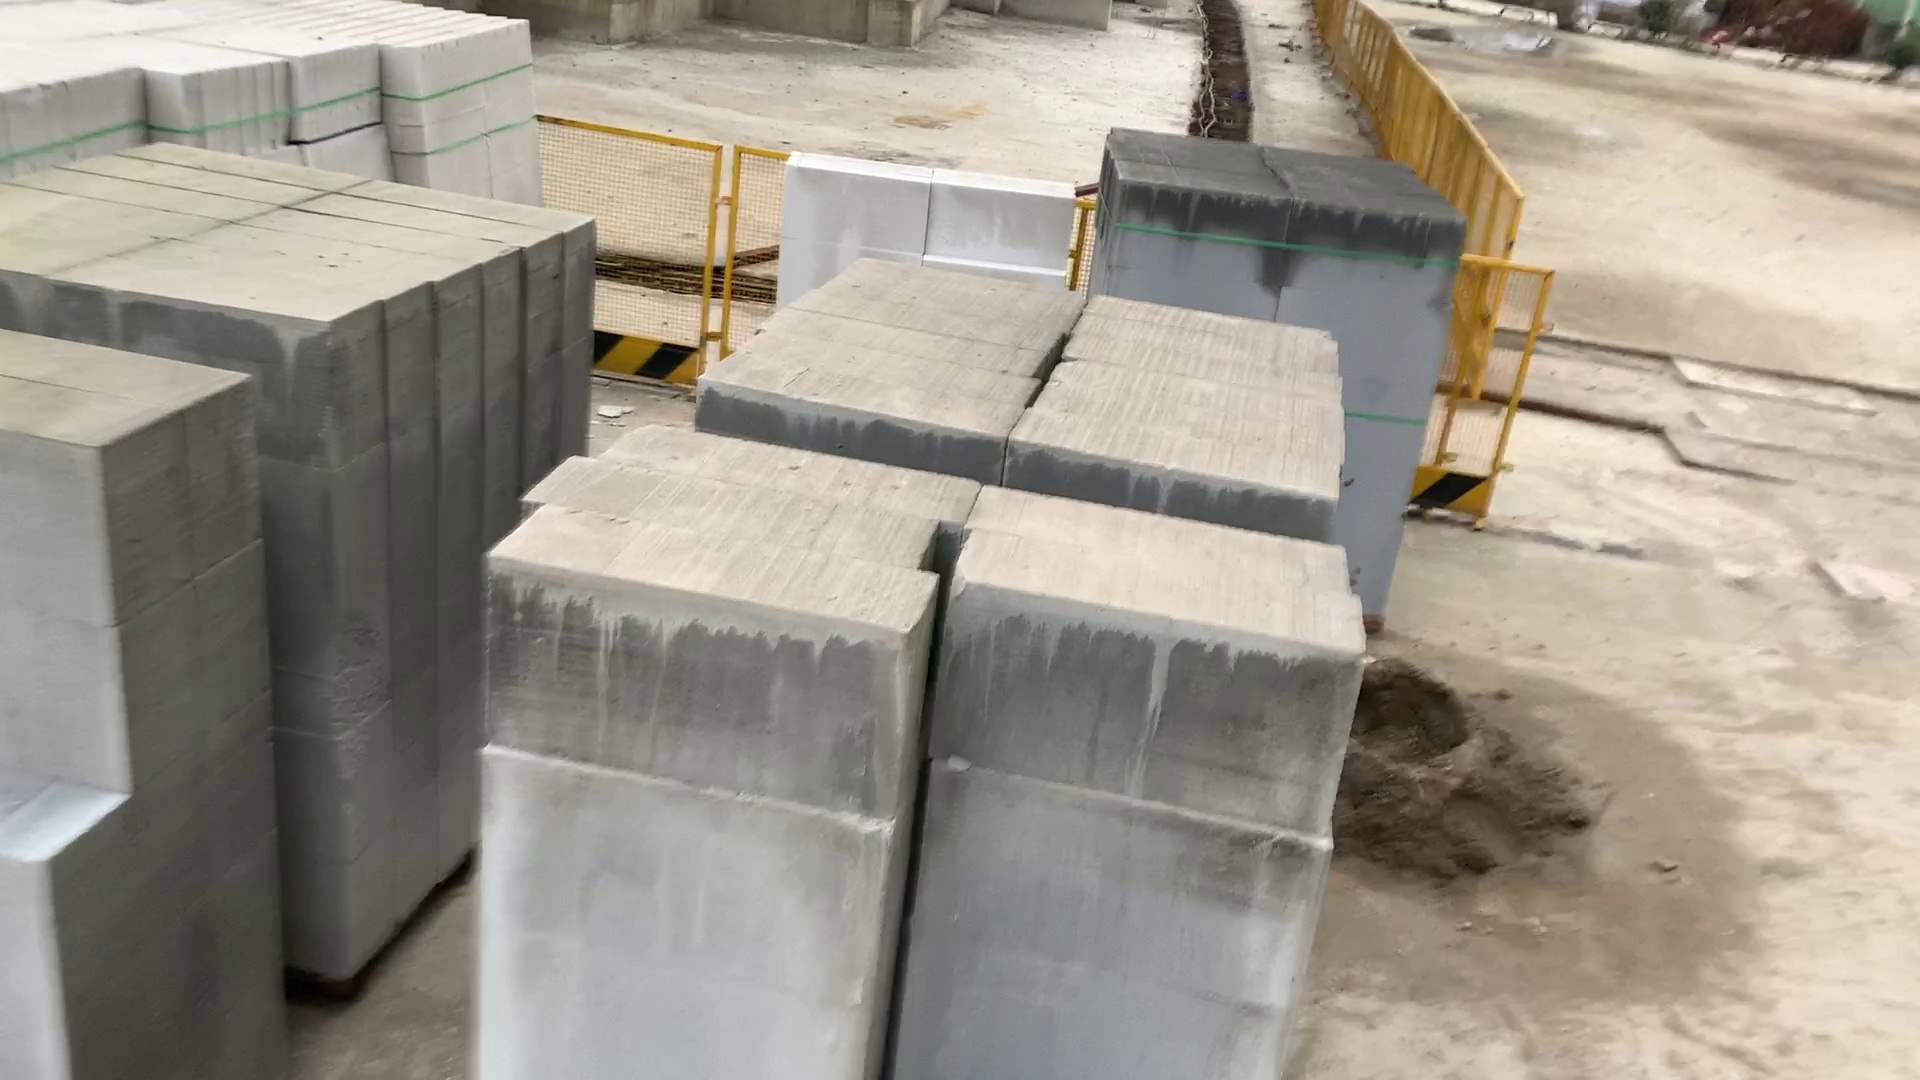brickwork: (506, 425, 1367, 1080), (3, 334, 276, 1080), (707, 249, 1365, 514), (3, 138, 622, 372), (1098, 127, 1466, 338), (382, 3, 554, 207), (4, 7, 142, 146), (146, 41, 285, 157), (285, 45, 382, 153)
